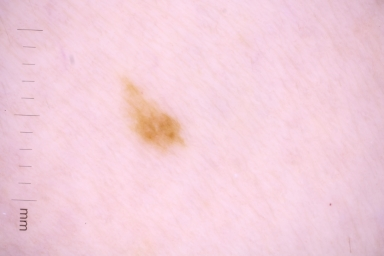melanoma: (119, 78, 180, 144)
